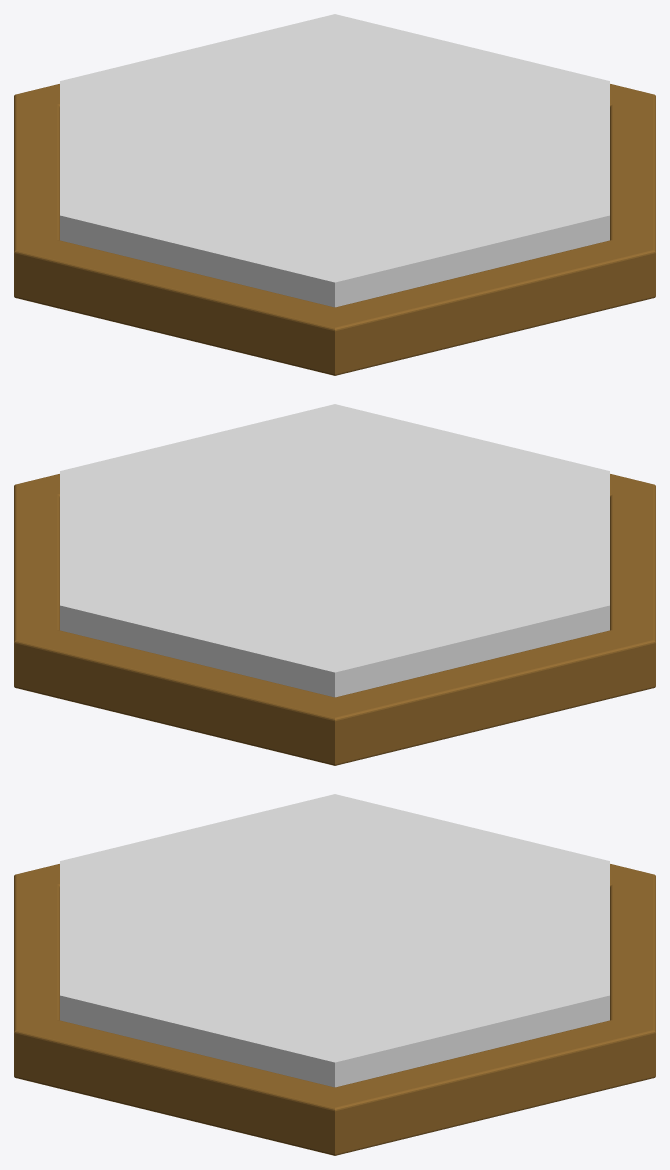
File: board.glb
The picture shows the model from 3 angles, top to bottom: view 1: azimuth 30°, elevation 25°; view 2: azimuth 150°, elevation 25°; view 3: azimuth 270°, elevation 25°; orthographic projection.
Parts seen in each view (by area): view 1: Base-minus-noimp, BaseCylinder; view 2: Base-minus-noimp, BaseCylinder; view 3: Base-minus-noimp, BaseCylinder.
Part boxes in pixels (x1=…): Base-minus-noimp: x1=60, y1=14, x2=609, y2=307; BaseCylinder: x1=14, y1=84, x2=655, y2=375; Base-minus-noimp: x1=60, y1=404, x2=609, y2=697; BaseCylinder: x1=14, y1=474, x2=655, y2=765; Base-minus-noimp: x1=60, y1=794, x2=609, y2=1087; BaseCylinder: x1=14, y1=864, x2=655, y2=1155.
Size of what is drawn, in the model's own units: 7 by 0.75 by 6.06.
